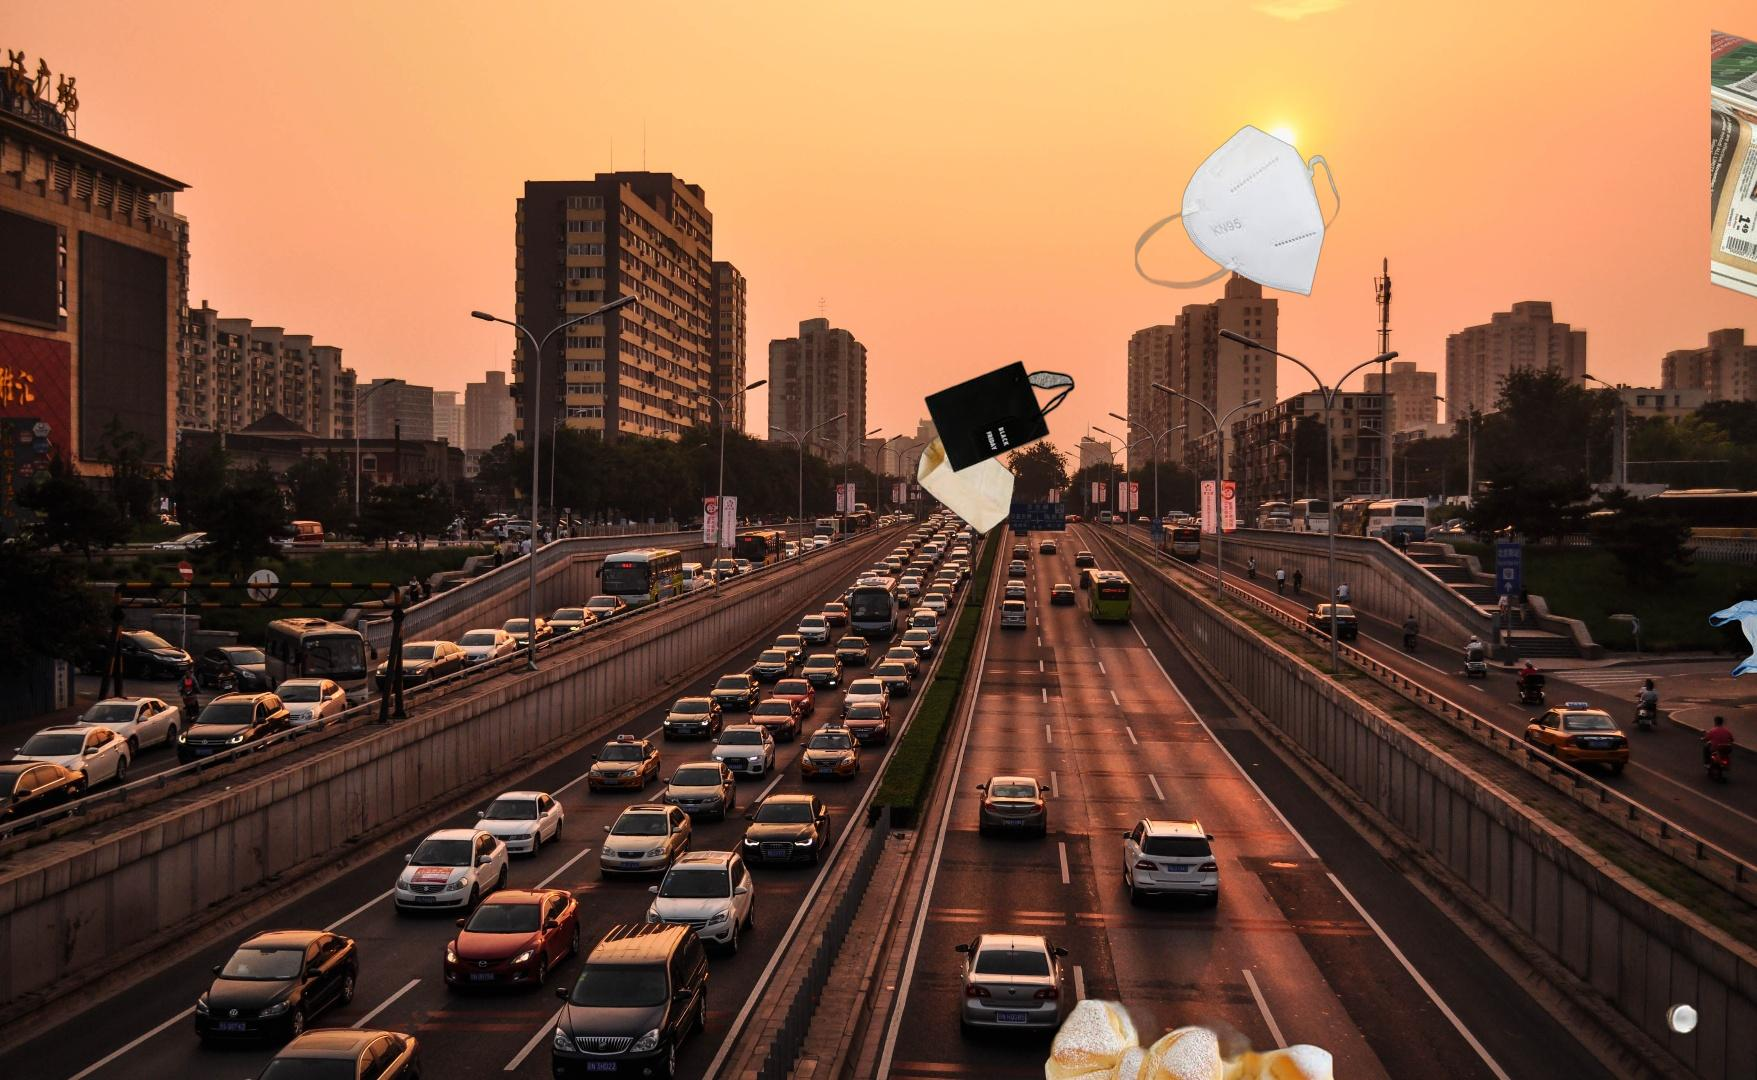biological: (1044, 985, 1342, 1080)
paper: (1711, 25, 1757, 335)
paper-bag: (916, 357, 1078, 537)
plastic-bag: (1706, 586, 1757, 741)
trash: (1135, 122, 1340, 299)
trashbox-cardboard: (1653, 998, 1757, 1080)
